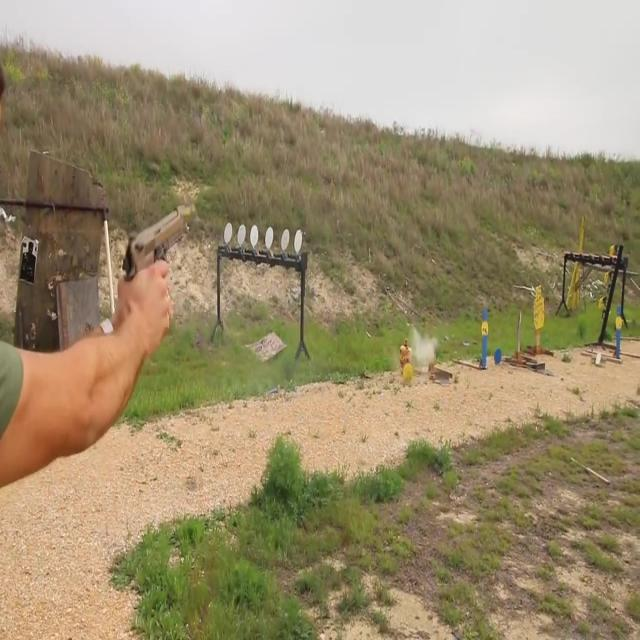Weapon: (94, 163, 202, 330)
